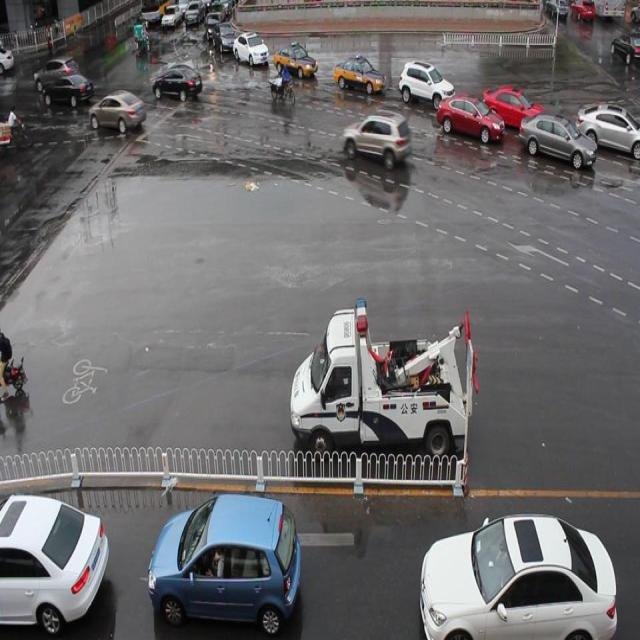bus: (290, 294, 478, 465)
car: (417, 513, 616, 640), (147, 490, 303, 634), (1, 488, 109, 640), (519, 107, 595, 175), (343, 105, 412, 172), (576, 94, 640, 162), (437, 85, 503, 146), (481, 77, 546, 136), (398, 52, 455, 113), (89, 84, 146, 138), (334, 49, 386, 99), (152, 60, 203, 106), (272, 39, 318, 81), (233, 26, 269, 72), (214, 17, 238, 60)
